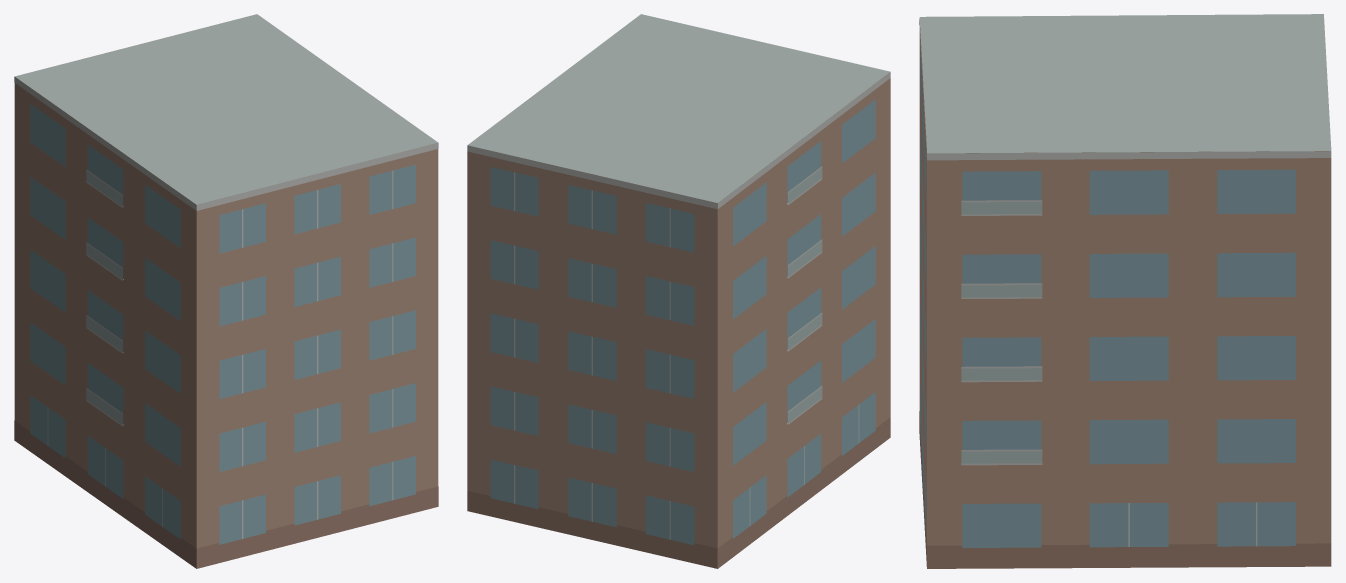
The model's file is survey-upis-33011771.glb.
3 views of the same model, side by side, from view 1: azimuth 30°, elevation 25°; view 2: azimuth 150°, elevation 25°; view 3: azimuth 270°, elevation 25° (orthographic). The views are drawn at different scales.
Parts seen in each view (by area): view 1: survey-upis-33011771.tmp; view 2: survey-upis-33011771.tmp; view 3: survey-upis-33011771.tmp.
Part boxes in pixels (bbox=[...]): survey-upis-33011771.tmp: bbox=[14, 14, 438, 568]; survey-upis-33011771.tmp: bbox=[467, 14, 890, 568]; survey-upis-33011771.tmp: bbox=[919, 14, 1331, 568].
Bounding box in the file's own units: 10.46 × 14.5 × 13.04.
